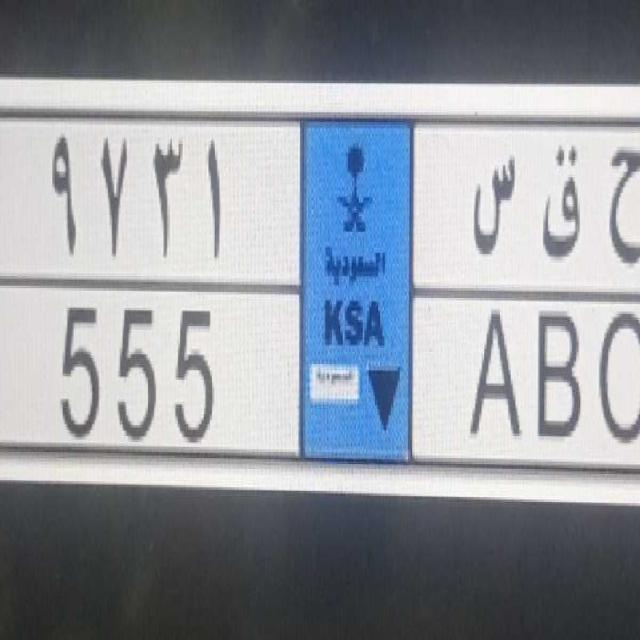license_plate: (17, 279, 640, 480)
